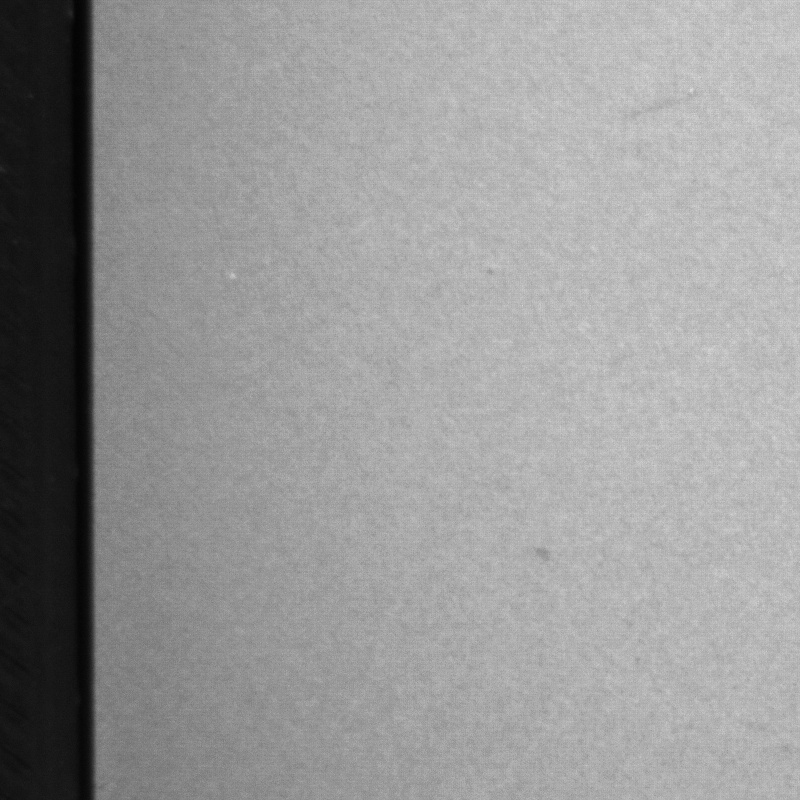defect: (631, 86, 699, 117), (535, 544, 551, 565)
